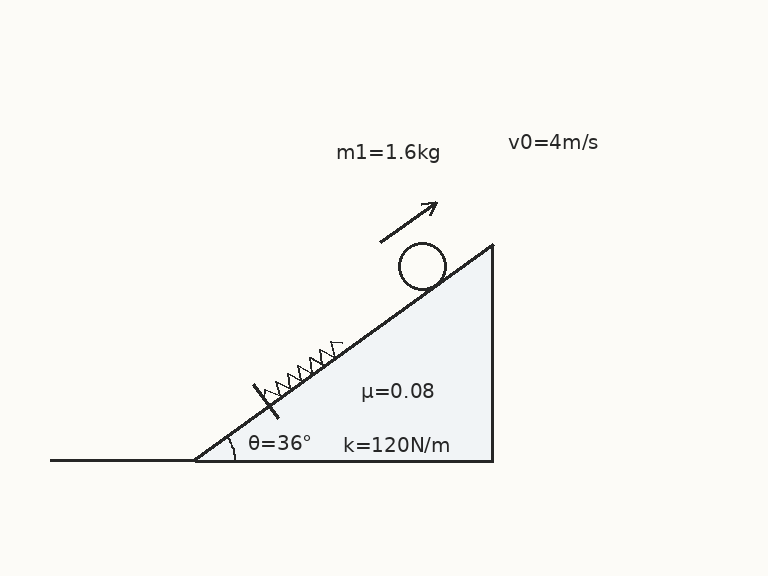ball: (396, 240, 448, 292)
ramp: (193, 242, 494, 462)
spring: (262, 339, 343, 401)
